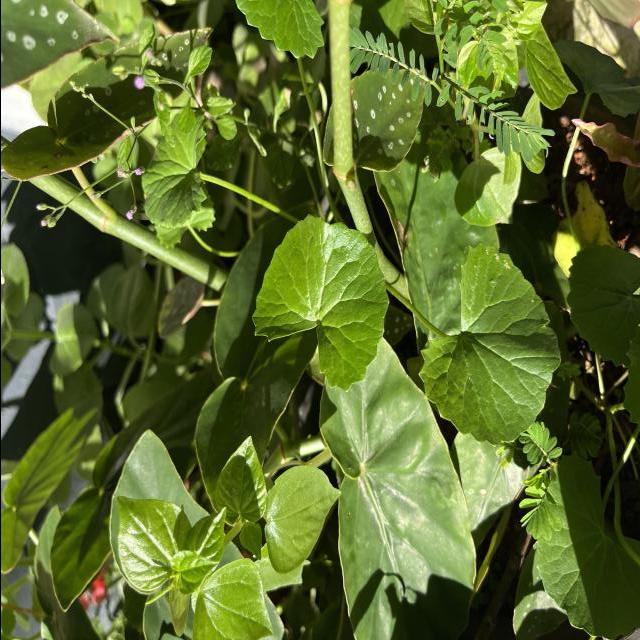Centella asiatica: (413, 237, 564, 450), (246, 211, 391, 395), (525, 447, 640, 640)
